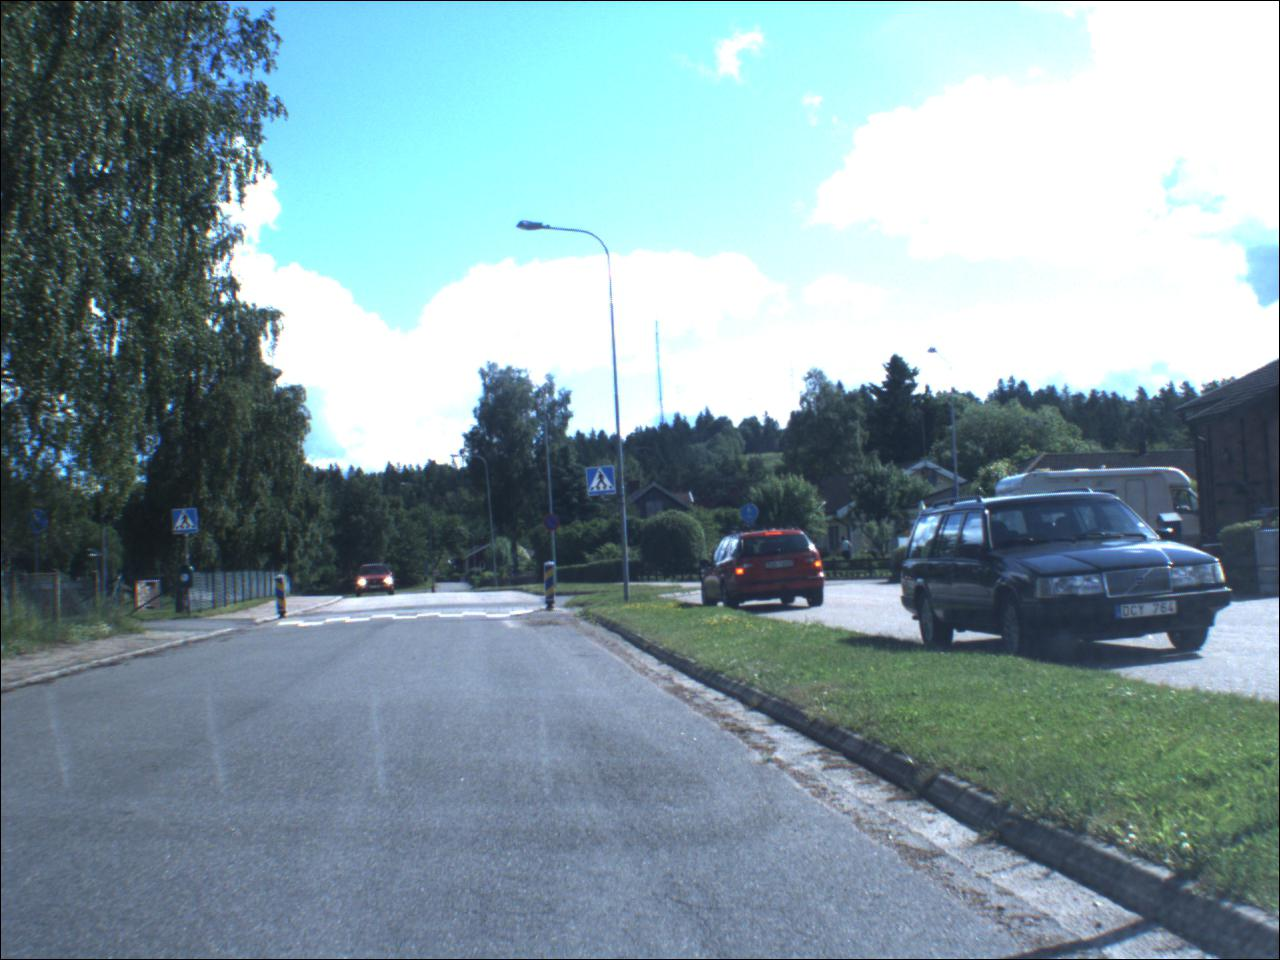NO_PARKING: (546, 515, 563, 533)
PEDESTRIAN_CROSSING: (589, 470, 619, 498), (174, 510, 200, 536)
